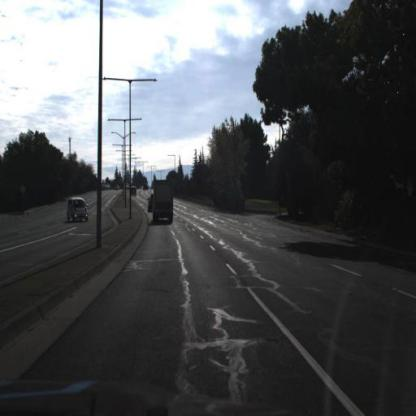car: (66, 197, 90, 223), (146, 191, 155, 216), (149, 193, 157, 214), (131, 187, 139, 198)
truck: (153, 178, 176, 225)
